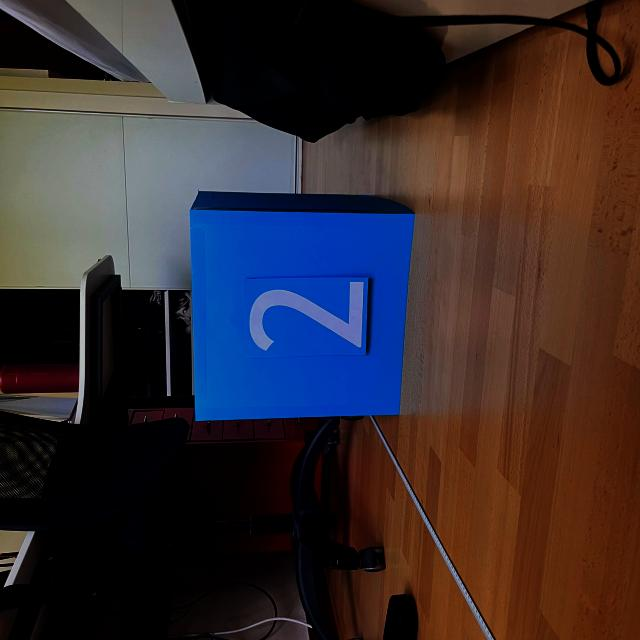box: (185, 185, 417, 422)
